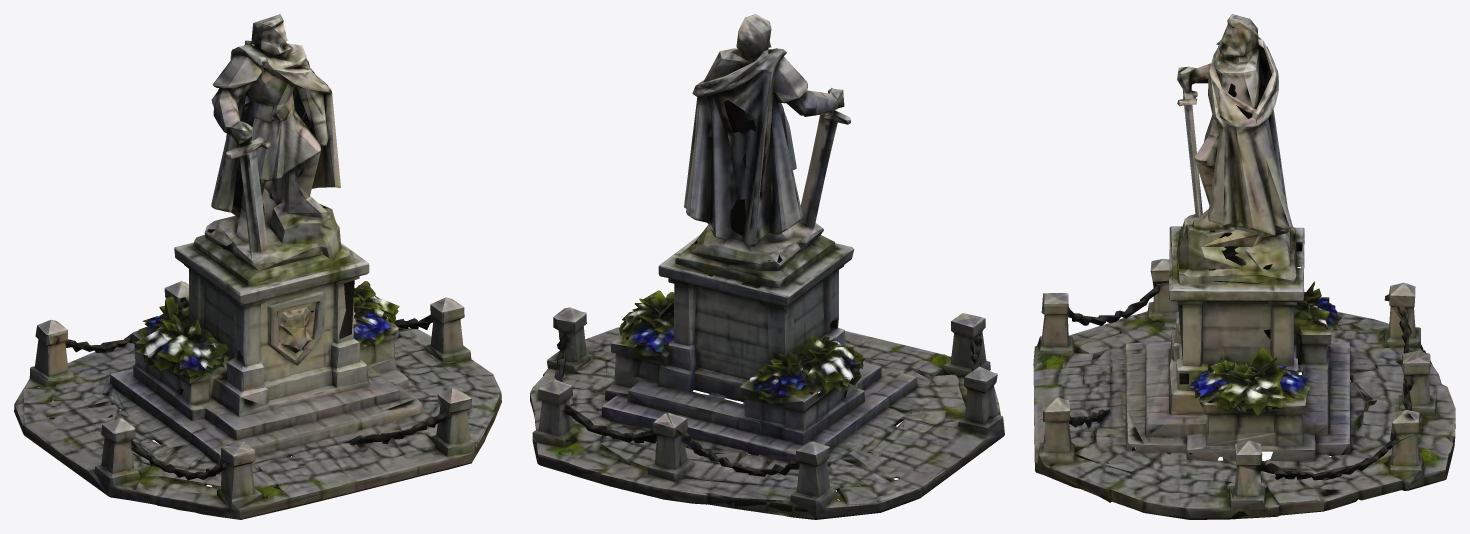
File: townStatue.glb
3 views of the same model, side by side, from view 1: azimuth 30°, elevation 25°; view 2: azimuth 150°, elevation 25°; view 3: azimuth 270°, elevation 25° (orthographic).
Visible parts, largest first — view 1: geometry_0; view 2: geometry_0; view 3: geometry_0.
Part boxes in pixels (<box>): geometry_0: <box>14,14,501,519</box>; geometry_0: <box>530,14,1004,519</box>; geometry_0: <box>1033,14,1455,519</box>.
Bounding box in the file's own units: 0.9982 × 0.9469 × 0.887.
Materials: 1 (1 with a texture image).
